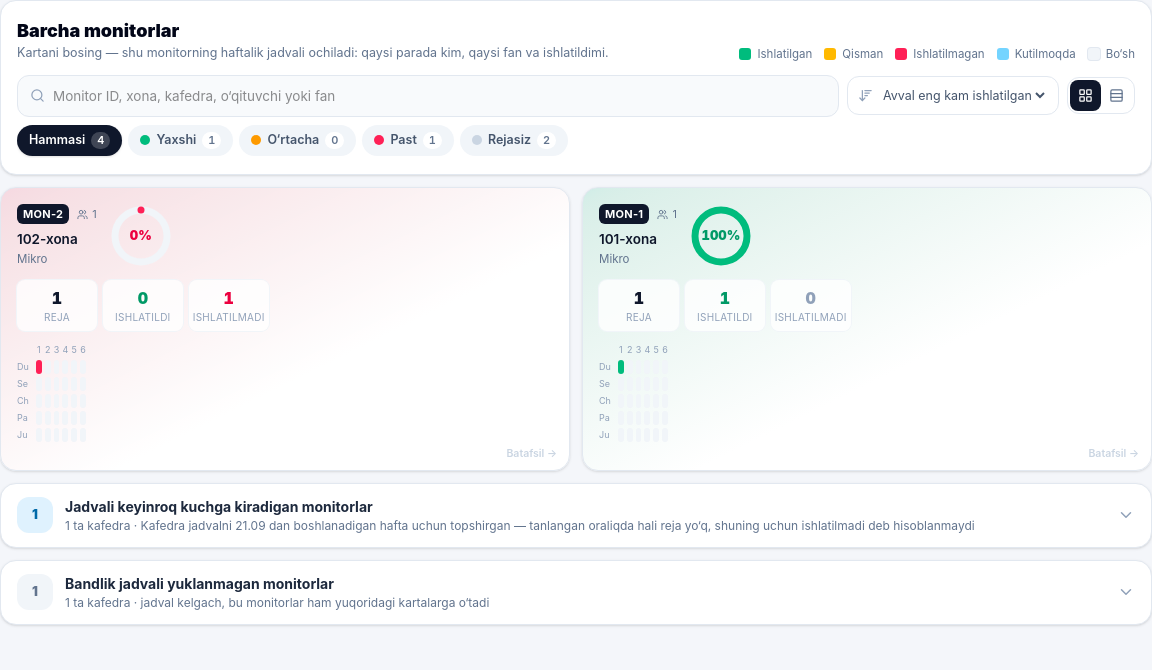
MonitorExplorer upcoming schedules › separates monitors whose schedule starts later from ones with no schedule
Click the text "Jadvali keyinroq kuchga kiradigan monitorlar": coordinates (219, 506) top-left (65, 498), bottom-right (373, 515)
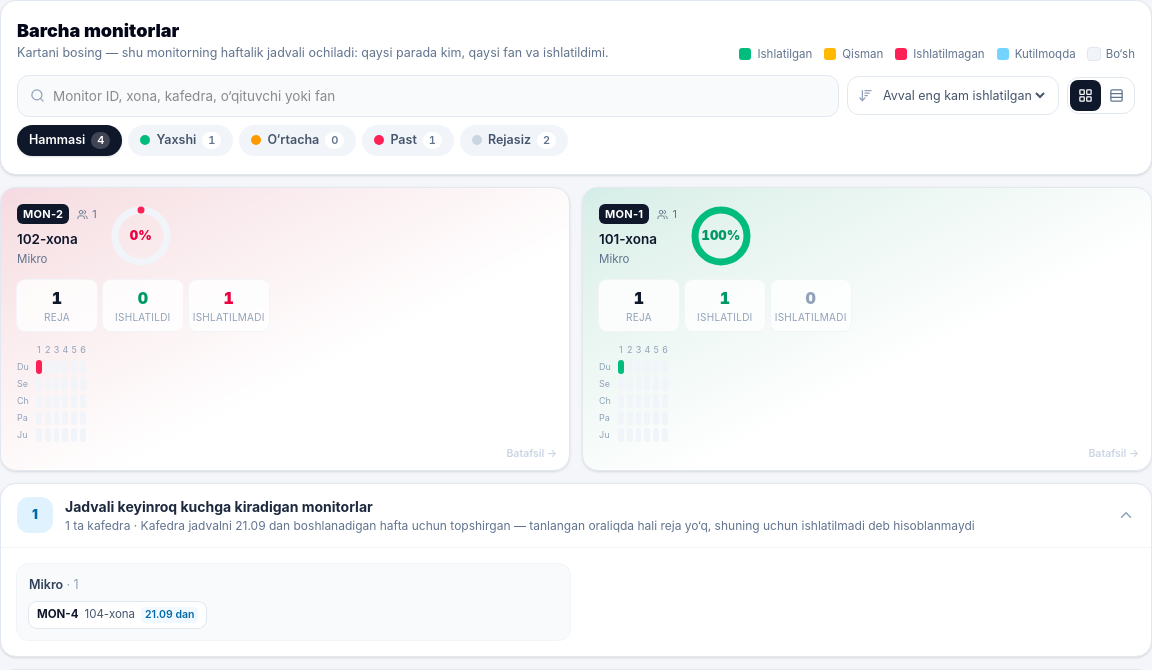
Expected: the text "104-xona" is shown, top-left (84, 606), bottom-right (135, 624)
Expected: the text "21.09 dan" is shown, top-left (141, 607), bottom-right (198, 623)
